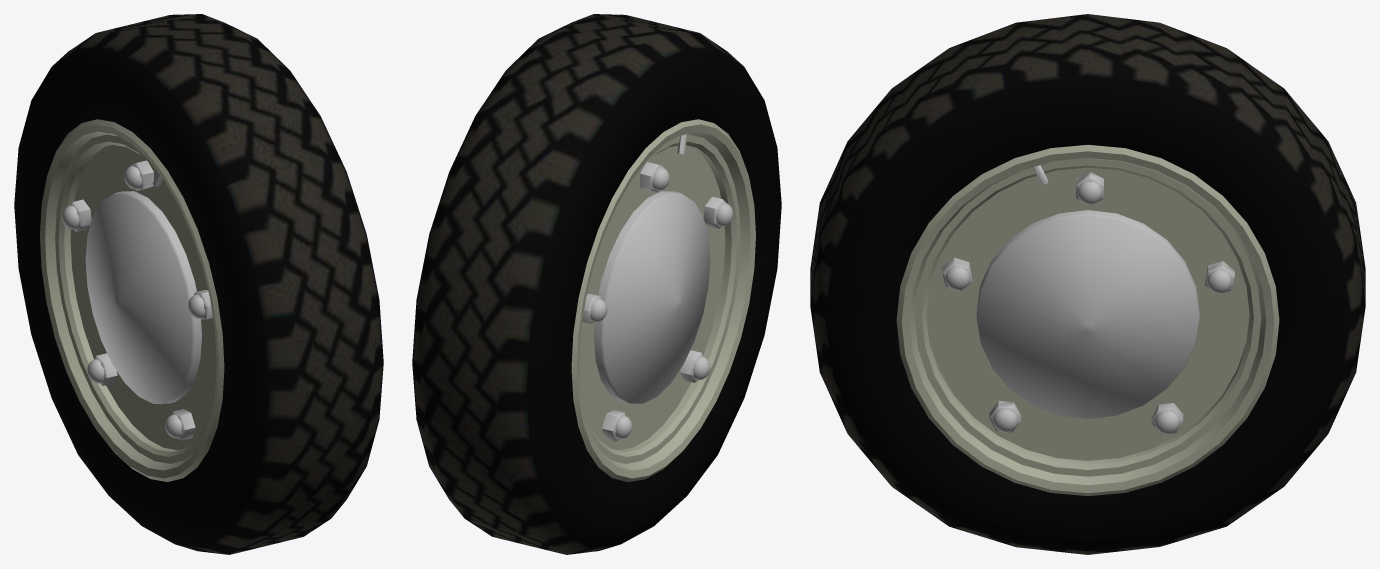
Rendered from ZAZ968_wheel.obj.
3 views of the same model, side by side, from view 1: azimuth 30°, elevation 25°; view 2: azimuth 150°, elevation 25°; view 3: azimuth 270°, elevation 25° (orthographic). The views are drawn at different scales.
Parts seen in each view (by area): view 1: Empty_Mesh_Сіть.004; view 2: Empty_Mesh_Сіть.004; view 3: Empty_Mesh_Сіть.004.
Part boxes in pixels (x1=…): Empty_Mesh_Сіть.004: x1=14, y1=14, x2=383, y2=554; Empty_Mesh_Сіть.004: x1=412, y1=14, x2=781, y2=554; Empty_Mesh_Сіть.004: x1=810, y1=14, x2=1365, y2=554.
Size of the model in its own units: 0.7124 by 2 by 2.
6 materials, 6 textured.
